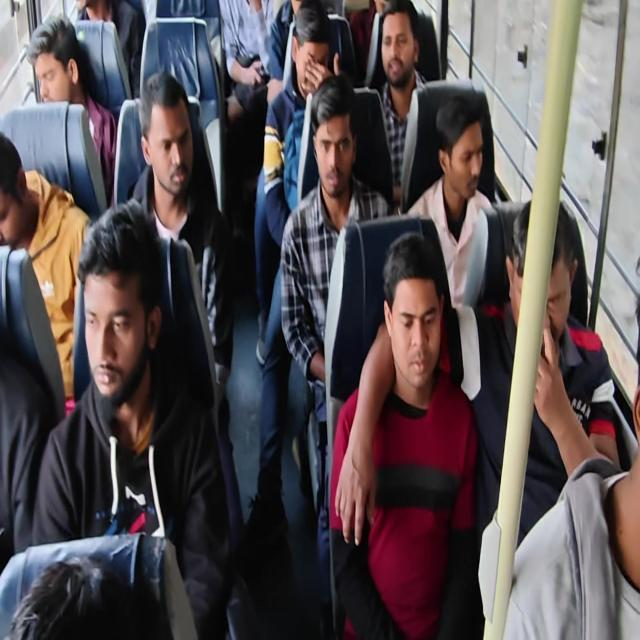person: (82, 223, 156, 398), (13, 551, 142, 640), (501, 226, 580, 355), (389, 242, 448, 400), (140, 91, 198, 191), (436, 116, 492, 217), (25, 30, 83, 107), (0, 136, 37, 244), (296, 17, 332, 98), (319, 99, 345, 196), (384, 16, 418, 89), (364, 0, 410, 26), (67, 0, 106, 18)
